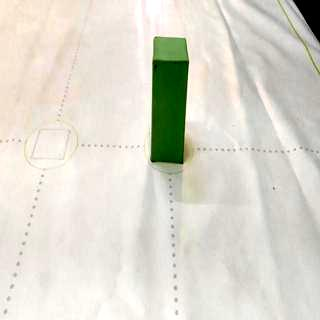greenbox: (148, 31, 190, 165)
